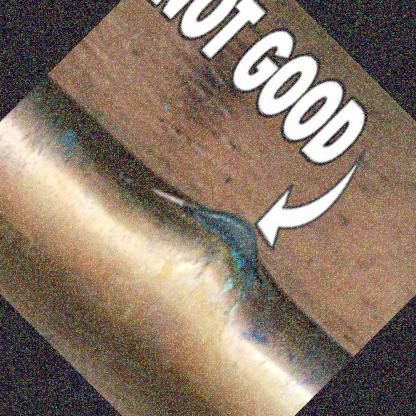burst: (185, 206, 261, 282)
